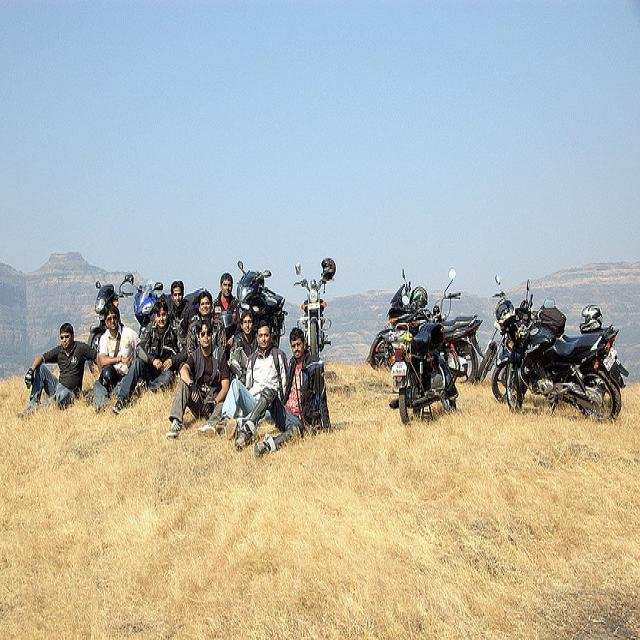motor: (497, 292, 628, 424), (475, 273, 568, 386), (390, 294, 460, 424), (369, 307, 485, 384), (87, 273, 134, 380), (236, 259, 289, 348), (293, 259, 336, 359), (390, 268, 438, 320), (132, 281, 173, 339)
